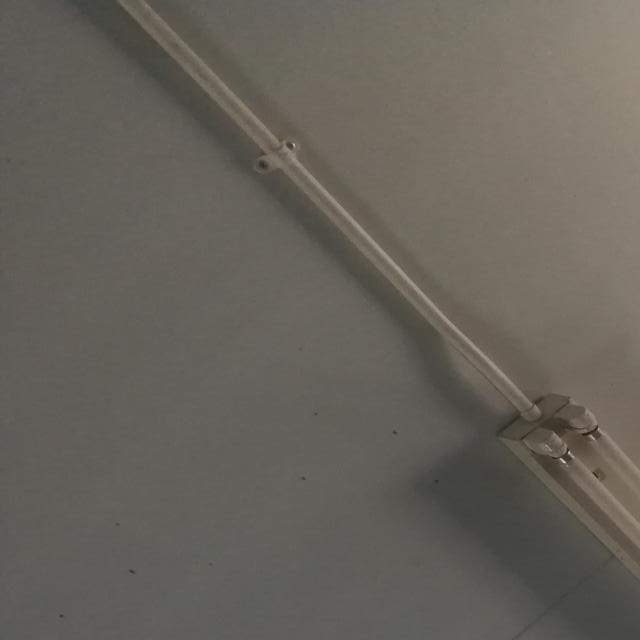fluorescent tube: (488, 369, 640, 640)
